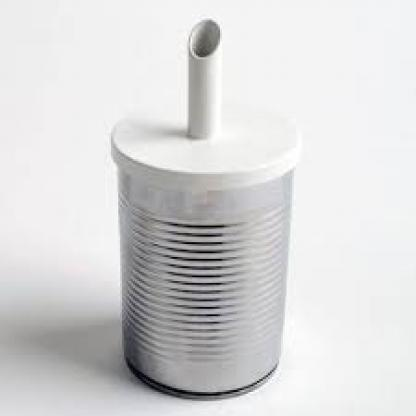METAL: (116, 159, 288, 398)
